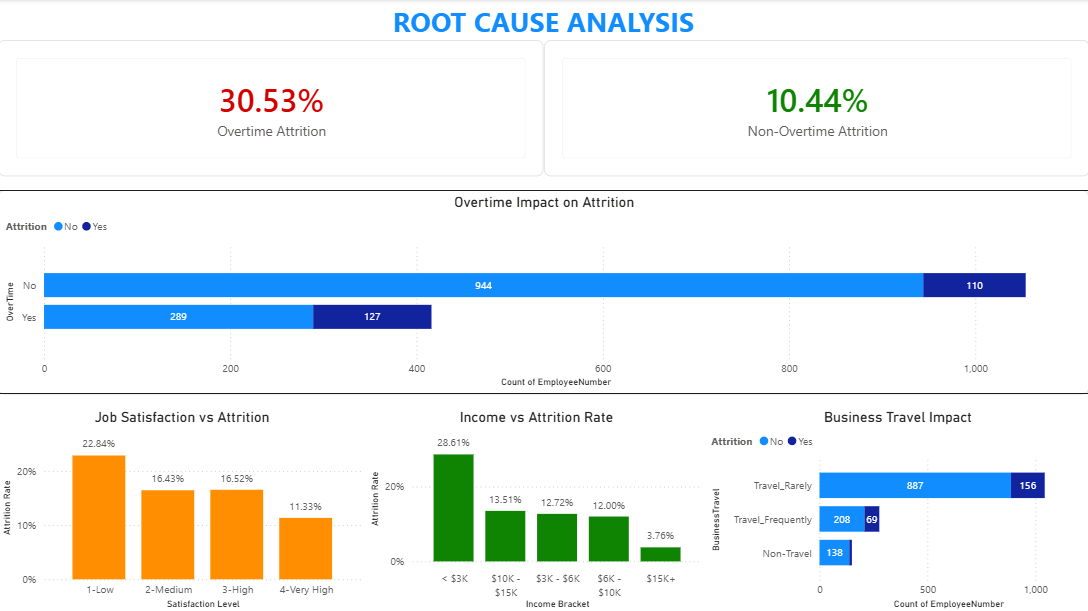

The dashboard page shown, as its layout file describes it:
{"tool":"powerbi","page":{"name":"Page 3","canvas":[1280,720],"ordinal":2},"visuals":[{"type":"actionButton","box":[0,0,1280,48],"z":0},{"type":"barChart","title":"Overtime Impact on Attrition","fields":{"Category":["employees.OverTime"],"Y":["Count(employees.EmployeeNumber)"],"Series":["employees.Attrition"]},"box":[0,224,1280,240],"z":1000},{"type":"clusteredColumnChart","title":"Job Satisfaction vs Attrition","fields":{"Y":["employees.Attrition Rate"],"Category":["employees.Satisfaction Level"]},"box":[0,480,432,240],"z":2000},{"type":"clusteredColumnChart","title":"Income vs Attrition Rate","fields":{"Category":["employees.Income Bracket"],"Y":["employees.Attrition Rate"]},"box":[432,480,400,240],"z":3000},{"type":"barChart","title":"Business Travel Impact","fields":{"Category":["employees.BusinessTravel"],"Y":["CountNonNull(employees.EmployeeNumber)"],"Series":["employees.Attrition"]},"box":[832,480,448,240],"z":4000},{"type":"cardVisual","fields":{"Data":["employees.Overtime Attrition"]},"box":[0,48,640,160],"z":5000},{"type":"cardVisual","fields":{"Data":["employees.Non-Overtime Attrition"]},"box":[640,48,640,160],"z":6000}]}

Visuals, with their boxes in screenshot pixels (x1, y1, x2, y2), scaled from the page's 1280x720 canvas onto the 1088x611 screenshot:
actionButton: left=0, top=0, right=1087, bottom=41
"Overtime Impact on Attrition" barChart: left=0, top=190, right=1087, bottom=394
"Job Satisfaction vs Attrition" clusteredColumnChart: left=0, top=407, right=367, bottom=610
"Income vs Attrition Rate" clusteredColumnChart: left=367, top=407, right=707, bottom=610
"Business Travel Impact" barChart: left=707, top=407, right=1087, bottom=610
cardVisual - employees.Overtime Attrition: left=0, top=41, right=544, bottom=177
cardVisual - employees.Non-Overtime Attrition: left=544, top=41, right=1087, bottom=177
